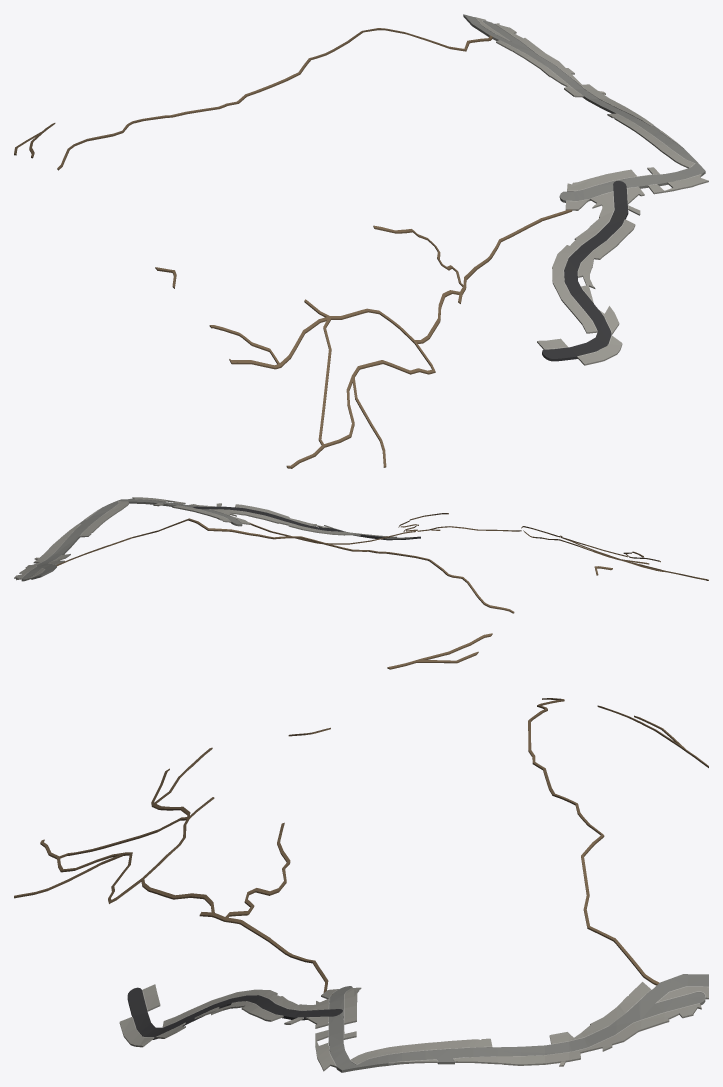
3 renders of one model, top to bottom at view 1: azimuth 30°, elevation 25°; view 2: azimuth 150°, elevation 25°; view 3: azimuth 270°, elevation 25°, orthographic. The views are drawn at different scales.
Bounding box in the file's own units: 293 × 90.95 × 292.
